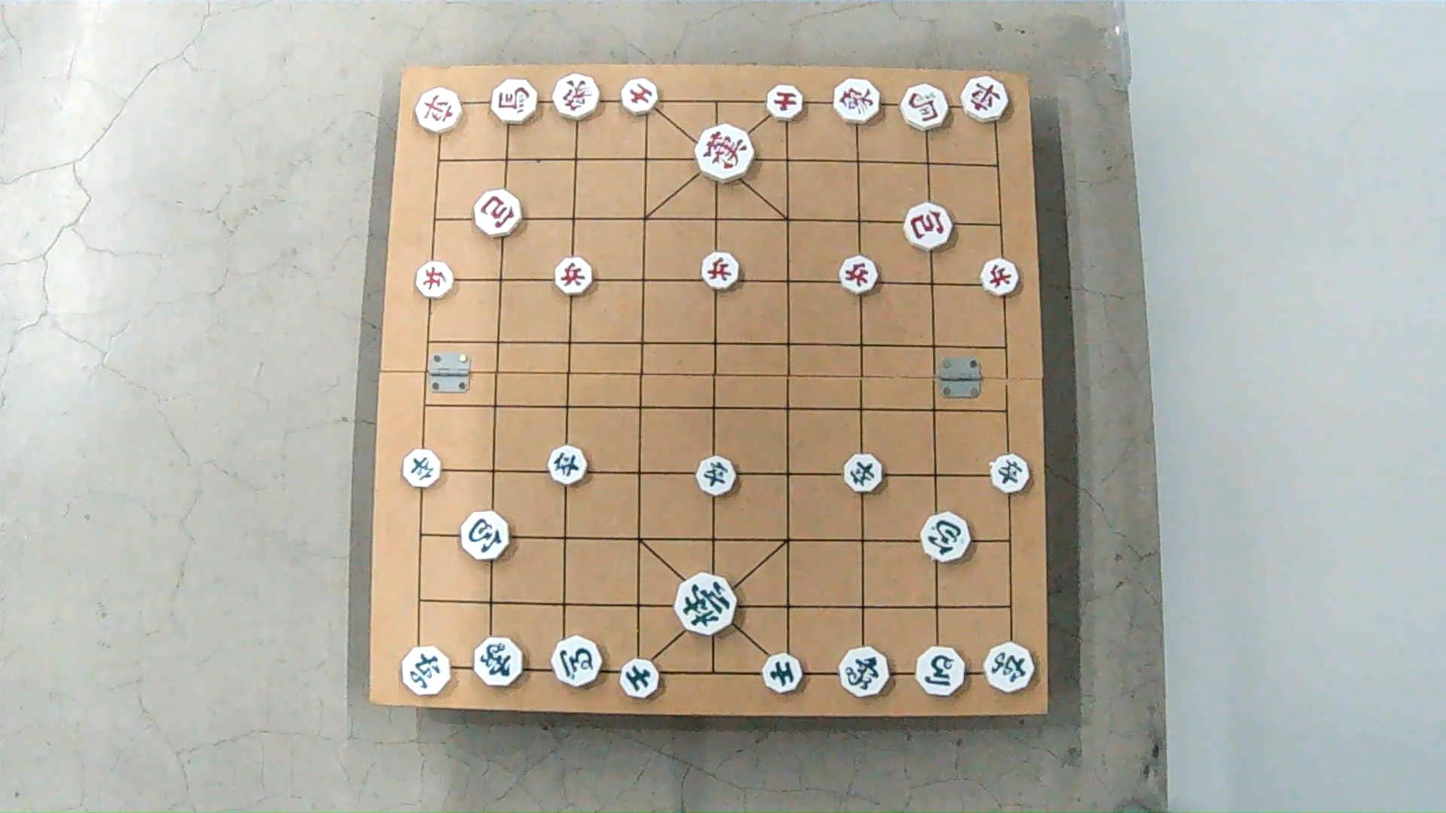cha_green: (981, 643, 1037, 689), (401, 650, 454, 695)
cha_red: (962, 78, 1014, 121), (413, 89, 465, 130)
jol_green: (692, 458, 737, 494), (548, 448, 591, 485), (987, 457, 1032, 492), (840, 456, 883, 492), (401, 451, 444, 486)
jol_red: (838, 259, 880, 293), (553, 260, 595, 294), (697, 256, 738, 290), (981, 259, 1023, 292), (413, 264, 455, 297)
ma_green: (549, 640, 603, 688), (916, 648, 969, 696)
ma_red: (490, 78, 540, 125), (898, 86, 950, 129)
po_green: (923, 517, 977, 562), (459, 515, 511, 560)
po_red: (902, 207, 955, 249), (474, 194, 523, 236)
sa_green: (764, 655, 807, 693), (619, 661, 661, 698)
sa_red: (621, 81, 664, 113), (767, 87, 810, 118)
sang_green: (838, 642, 894, 699), (470, 640, 523, 688)
sang_red: (550, 76, 600, 119), (831, 81, 880, 123)
wang_green: (673, 576, 738, 632)
wang_red: (695, 127, 755, 179)
